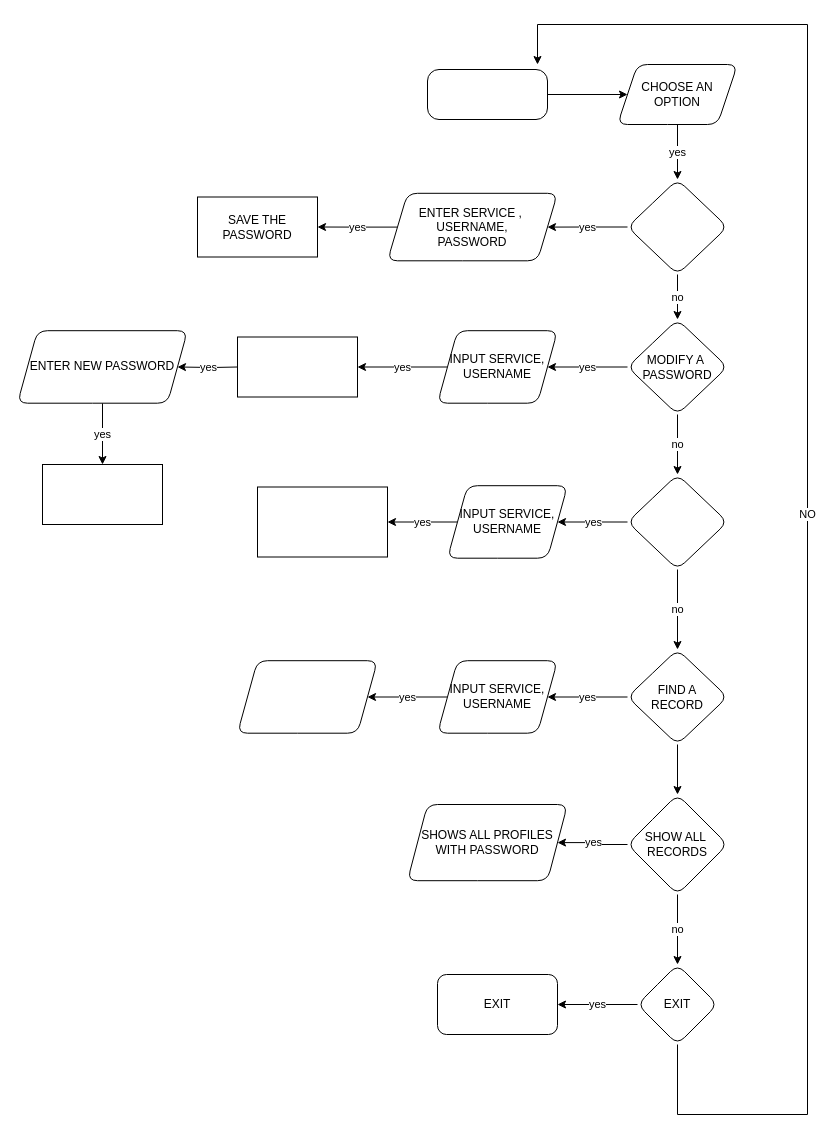
Image size: 833x1140. Some labels were removed from this diagram. Each missing label, with the box of its shape:
DELETE A PASSWORD: (626, 474, 728, 570)
DELETE THE PASSWORD WITH THE SAME NAME: (256, 486, 388, 557)
OPEN THE FILE WITH SAME CREDENTIALS: (236, 336, 358, 397)
SAVE NEW PASSWORD: (626, 178, 728, 274)
SHOW THE PASSWORD WITH THE SAME CREDENTIALS: (236, 660, 378, 733)
START: (426, 68, 548, 120)
UPDATE AND SAVE RECORD: (42, 464, 162, 524)
